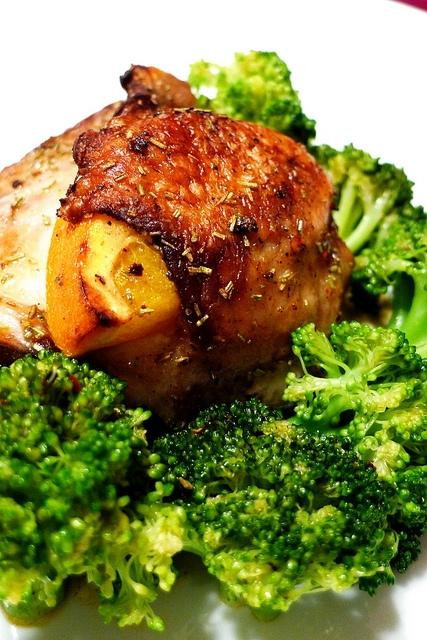broccoli: (150, 398, 408, 612), (1, 354, 186, 634), (283, 321, 427, 481), (188, 51, 316, 152), (351, 200, 427, 348), (336, 155, 414, 254), (242, 434, 293, 492)
